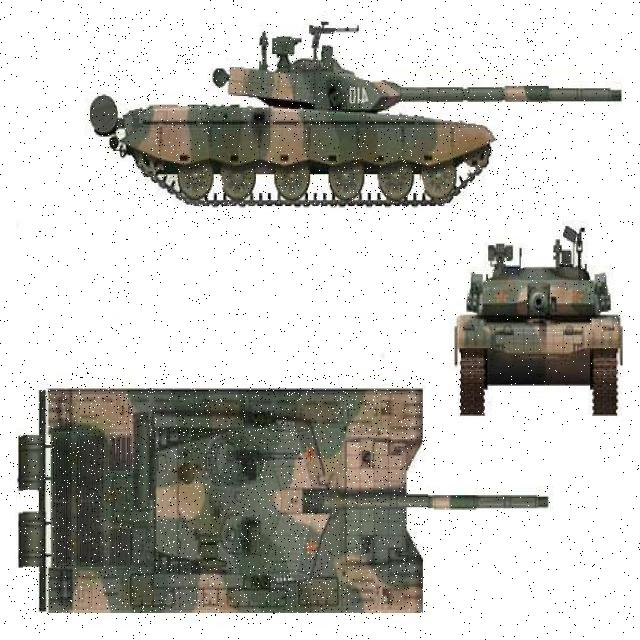MIL_MBT: (24, 374, 428, 620), (86, 22, 548, 220), (438, 227, 624, 440)
